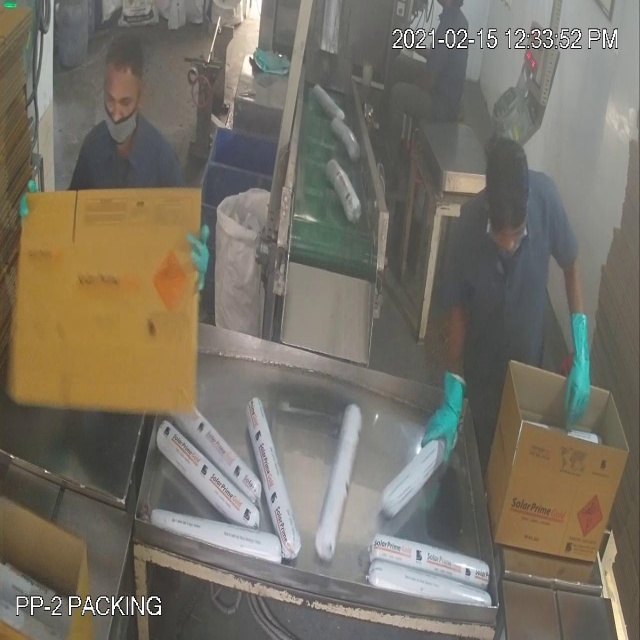Guantes: (412, 356, 476, 466), (557, 292, 594, 443)
